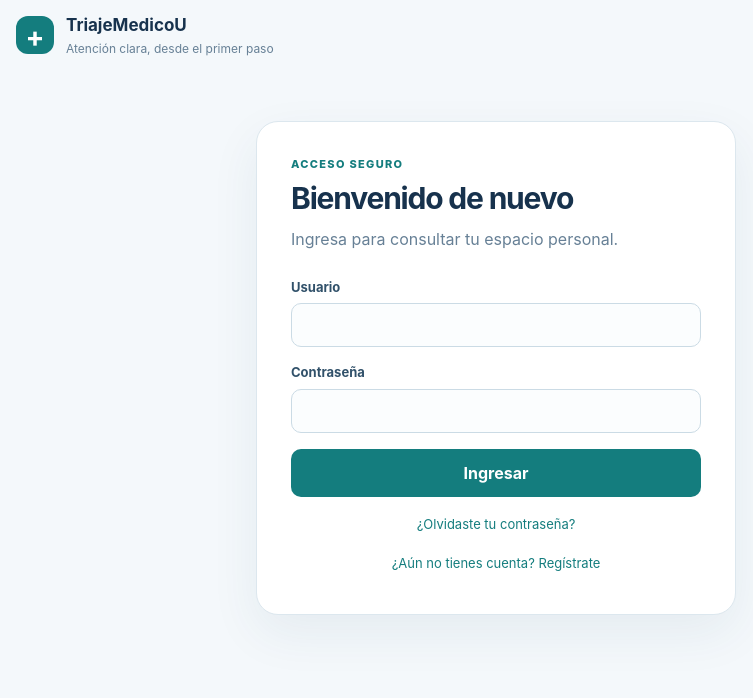
Test: authentication flow › shows an API error
Expected: the heading "Bienvenido de nuevo" is shown, [291,180,573,216]
In the field labelled "Usuario": (496, 325) [291,303,701,347], type "ana"
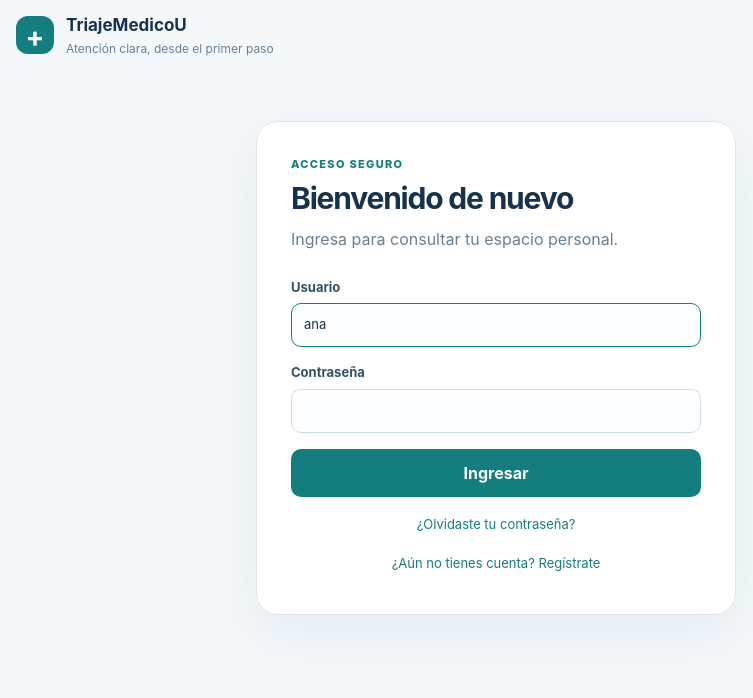
In the password field labelled "Contraseña": (496, 410) [291,388,701,432], type "wrong"
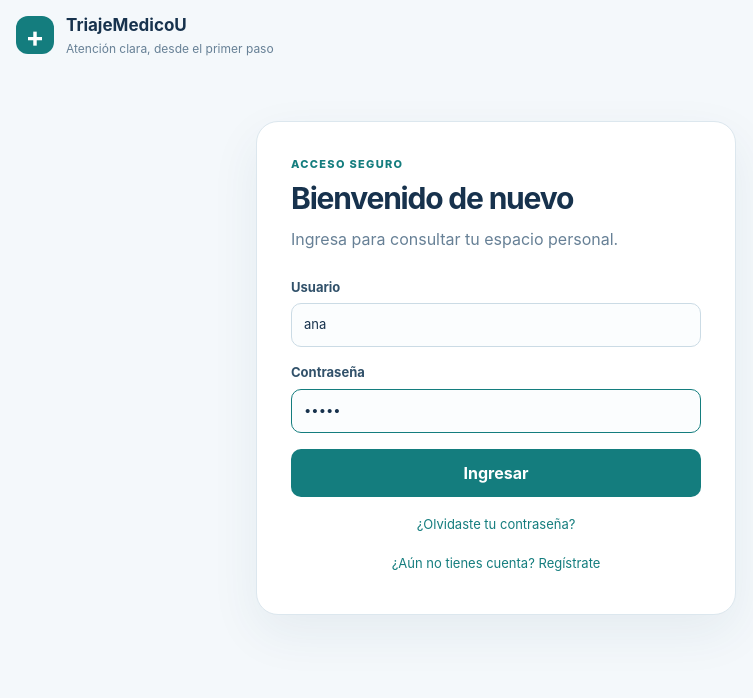
Click the button "Ingresar": (496, 472) [291,448,701,496]
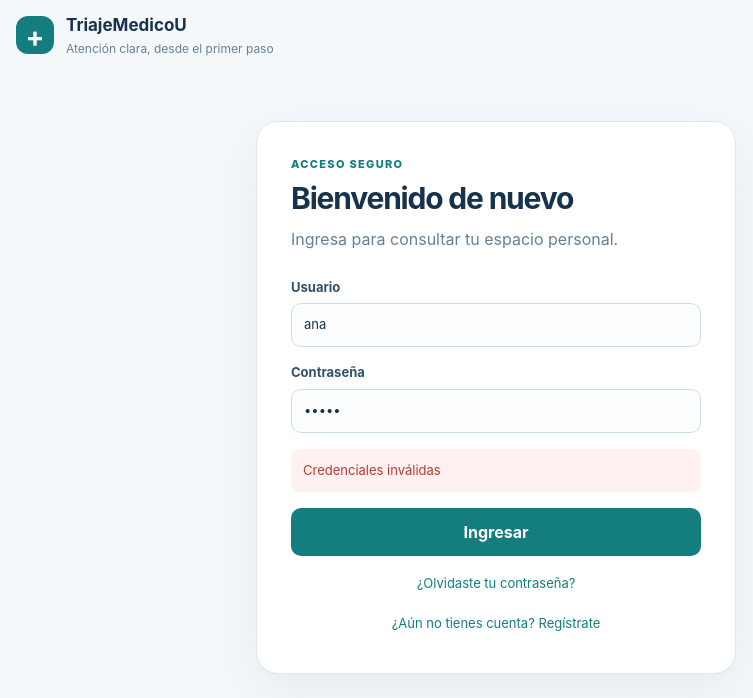
Now the message reads "Credenciales inválidas", box [303,462,441,478]
